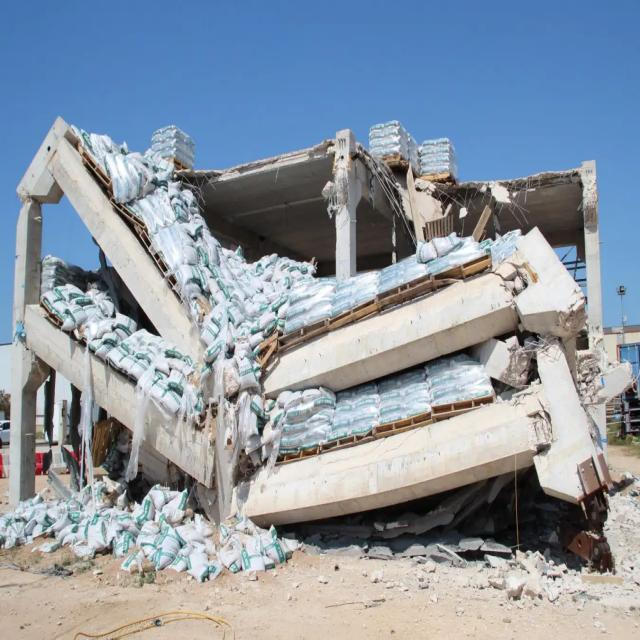collapsed building: (10, 119, 631, 560)
